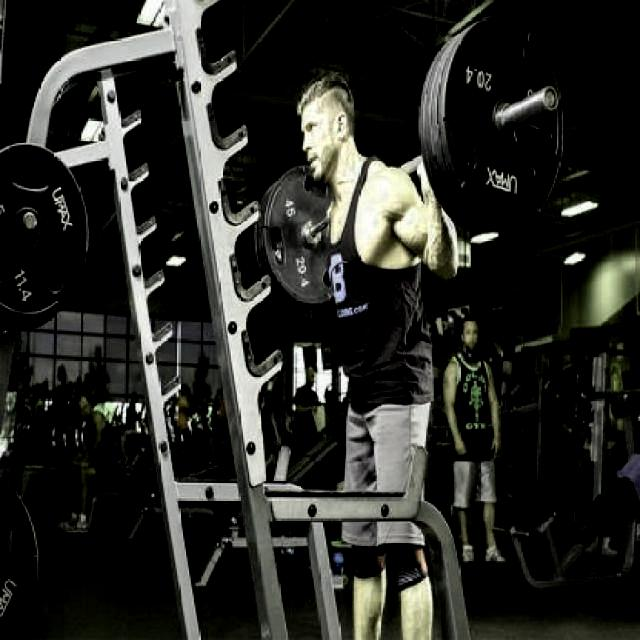barbell: (440, 16, 564, 230)
